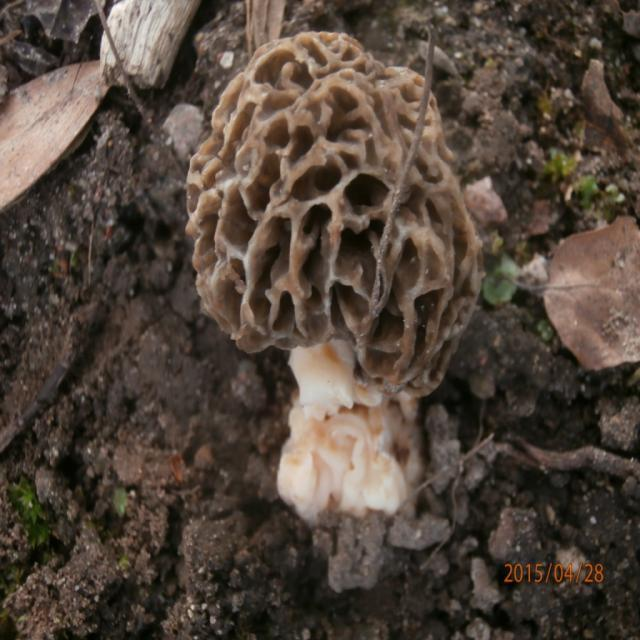Morchella esculenta: (185, 34, 478, 515)
